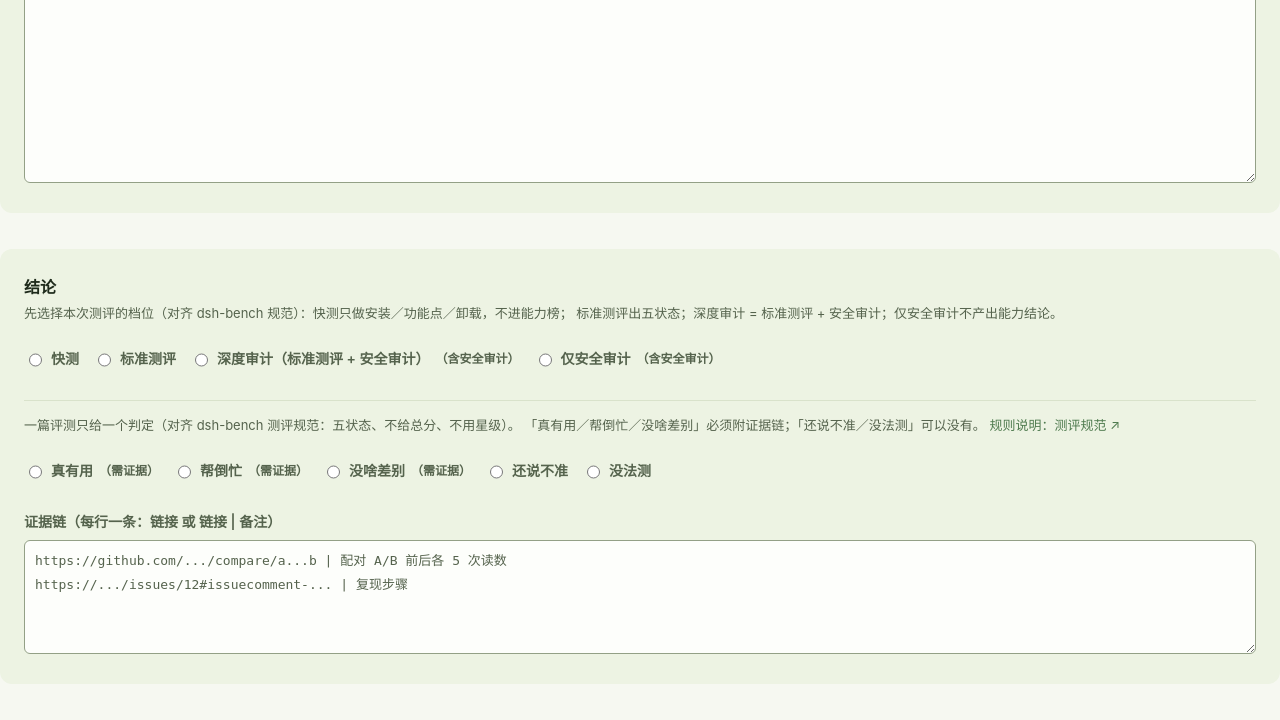
it: 评测编辑器 · 提交前判定必填 › 未选判定点提交：就地提示、不发保存/提交请求、不出现「操作失败」
(page scrolled)
// 档位是新增的提交必填项：先选档位，才能测到「判定未选」这一条。
What coordinates should you click on to do the following:
click the radio button labelled "快测"
I would click on:
 (36, 360)
Its box is top-left (29, 340), bottom-right (42, 380).
(page scrolled)
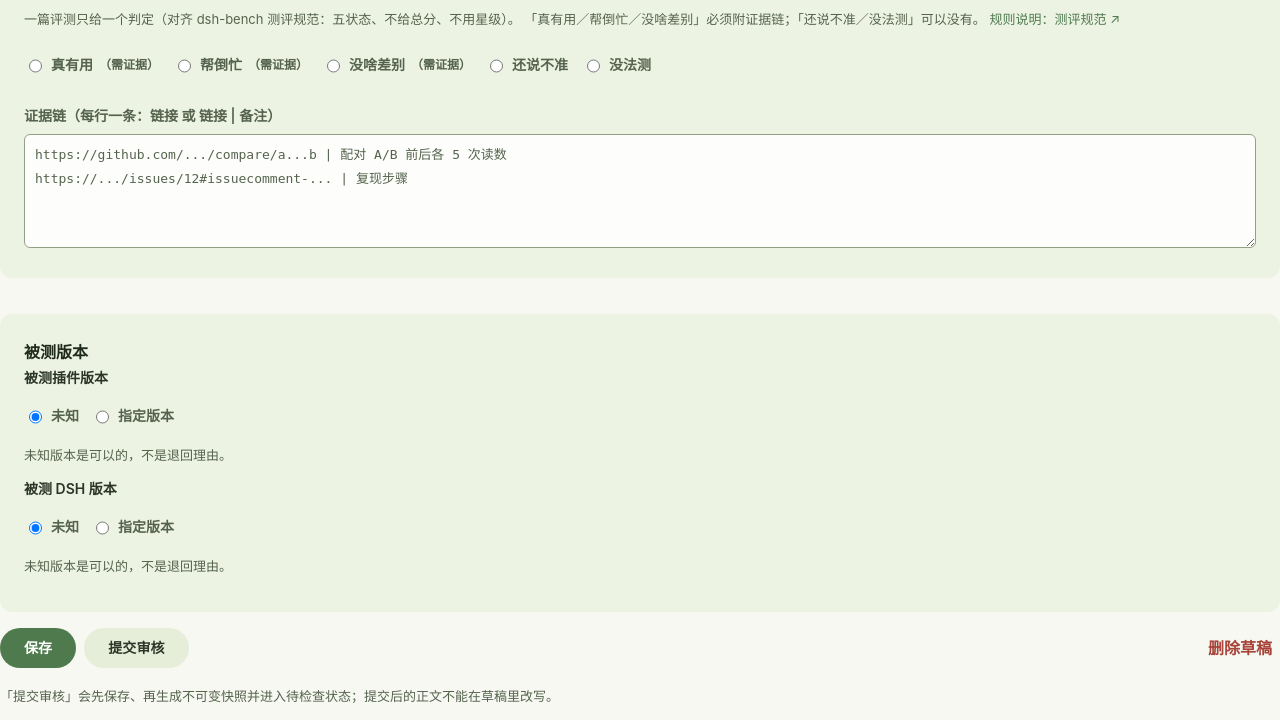
What coordinates should you click on to do the following:
click the button "提交审核"
I would click on:
 (136, 648)
Its box is top-left (84, 628), bottom-right (189, 668).
(page scrolled)
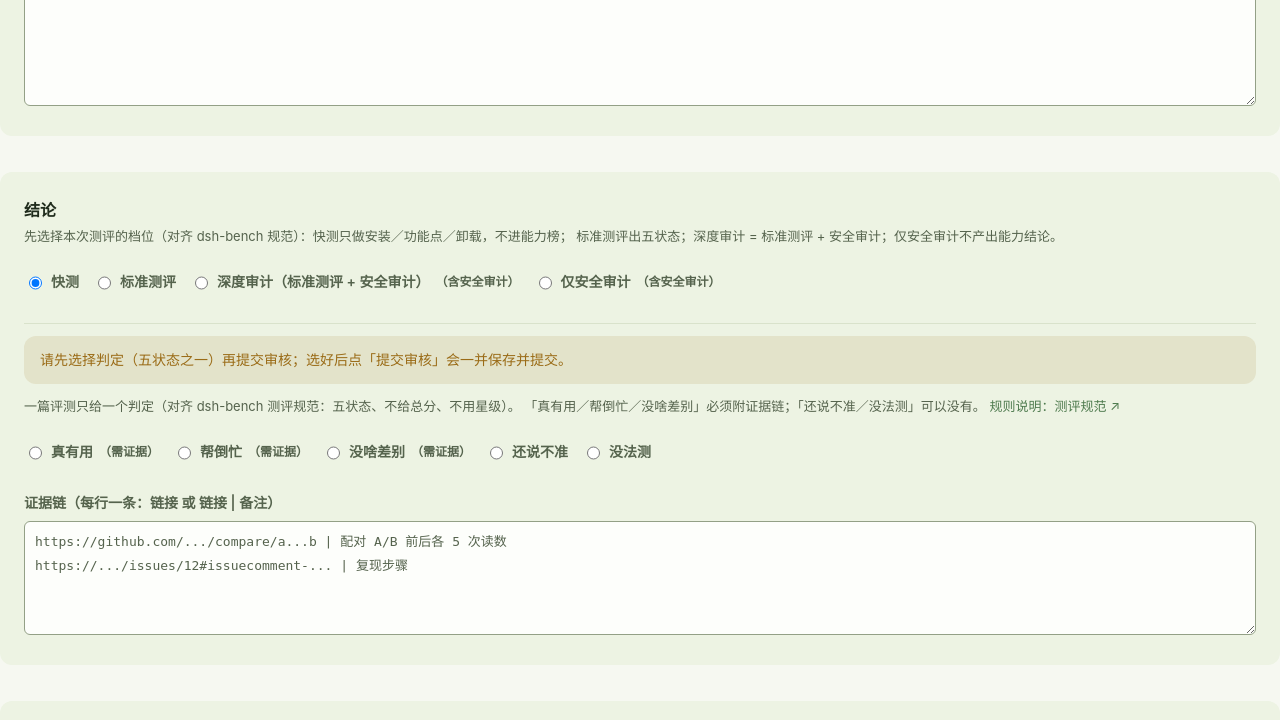
Result: the message shows "请先选择判定" at top-left (40, 351), bottom-right (572, 368)
